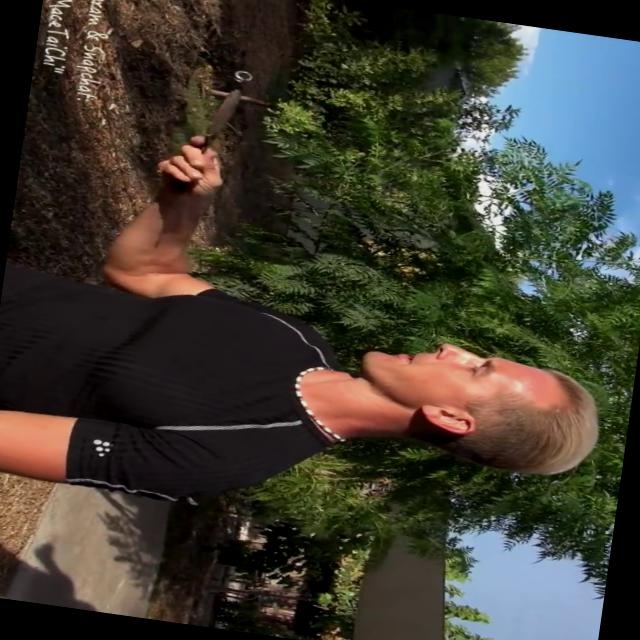knife: (157, 62, 266, 200)
